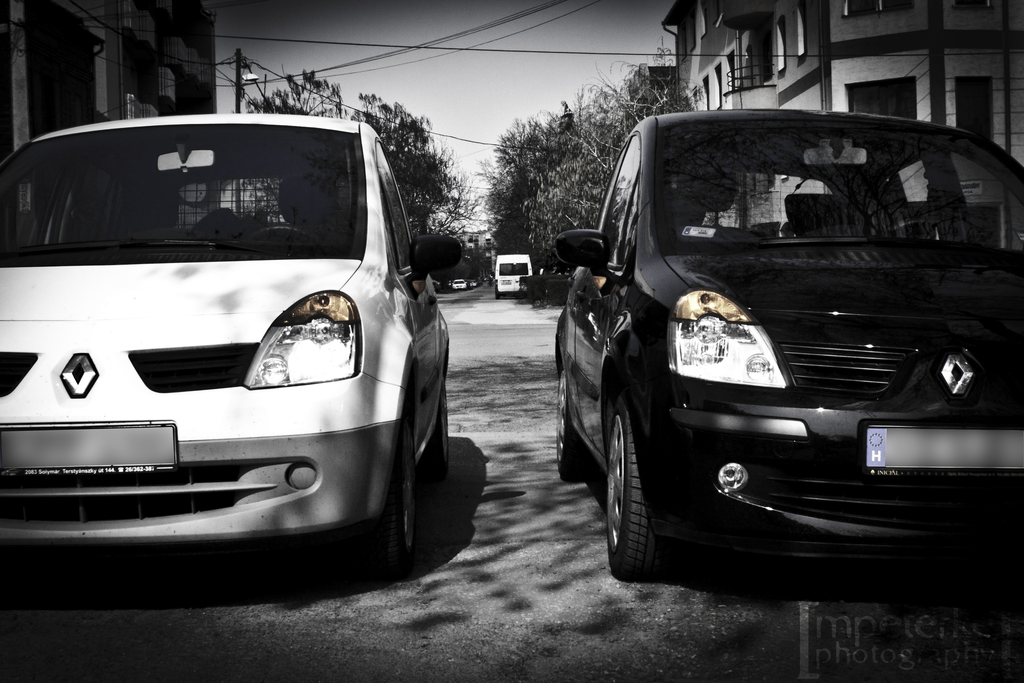Car: (553, 111, 1023, 586), (0, 112, 464, 579)
